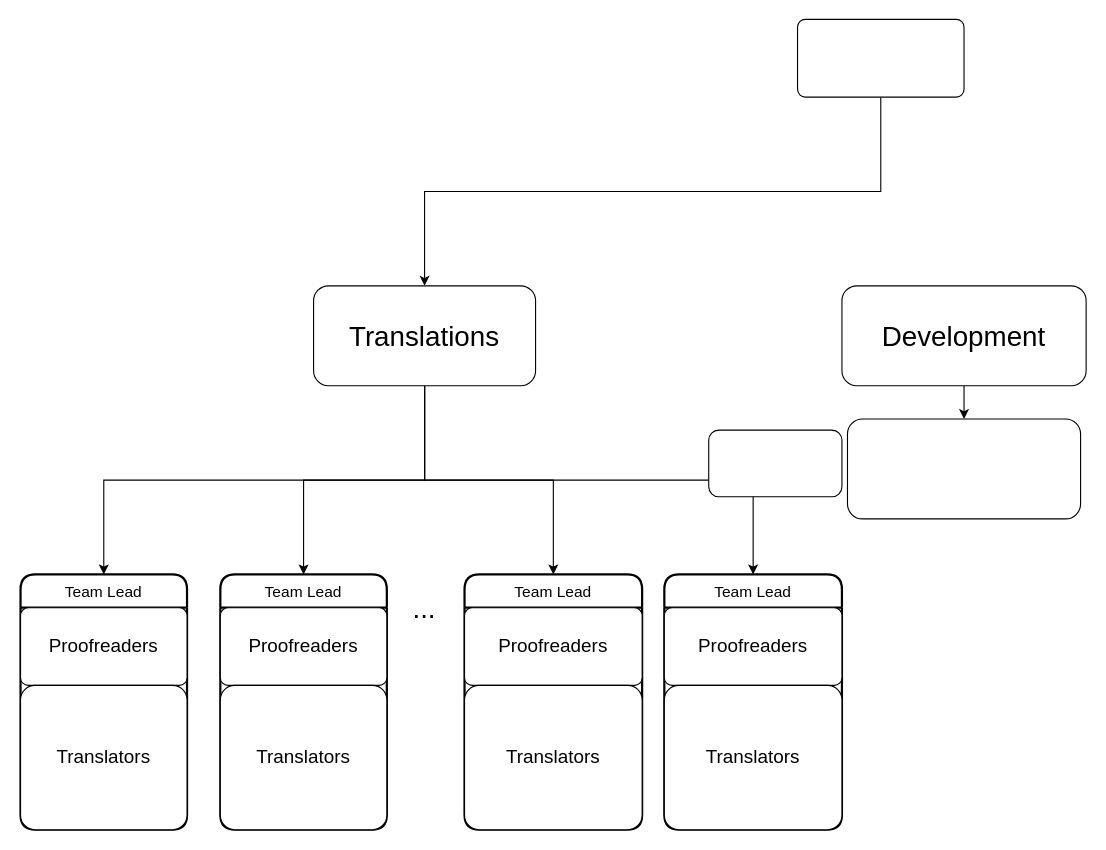
Image size: 1106x850. Some labels were removed from this diagram. Here are the shapes that lost their labels. From the top down, the centre of each, then its label:
At (x=880, y=57): "Translations producer(s)".
At (x=963, y=468): "Development team".
